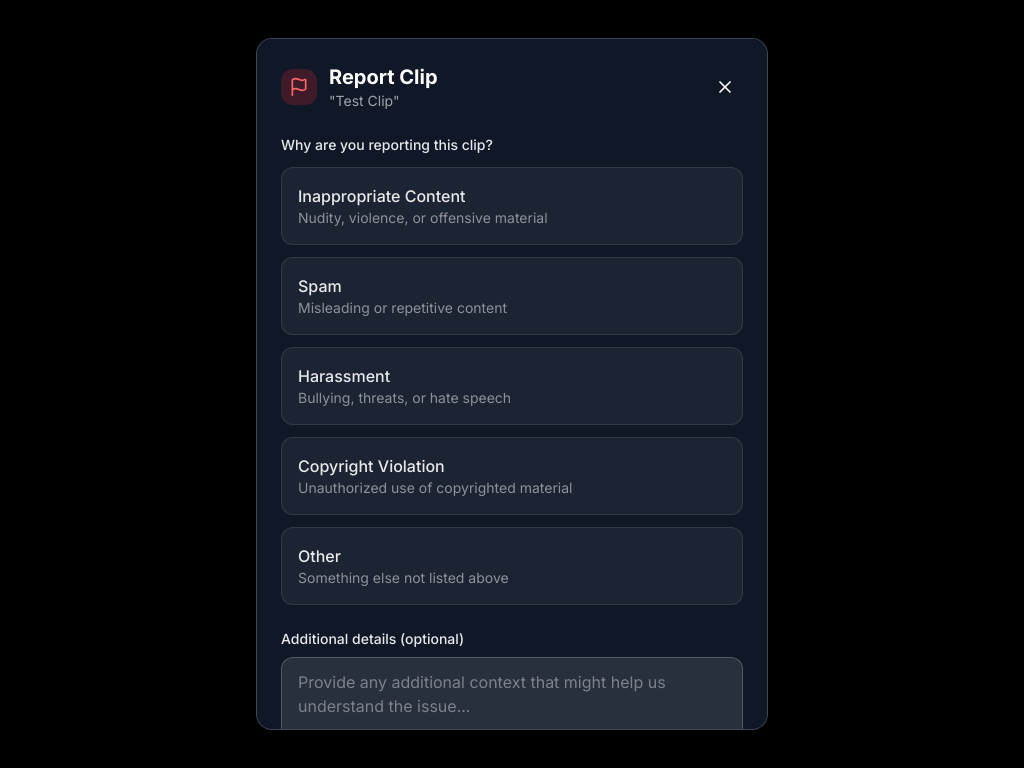
it: ReportModal › shows error message when submission fails
Step 1. Click the text "Harassment" → (344, 376), box [298,366,390,386]
(page scrolled)
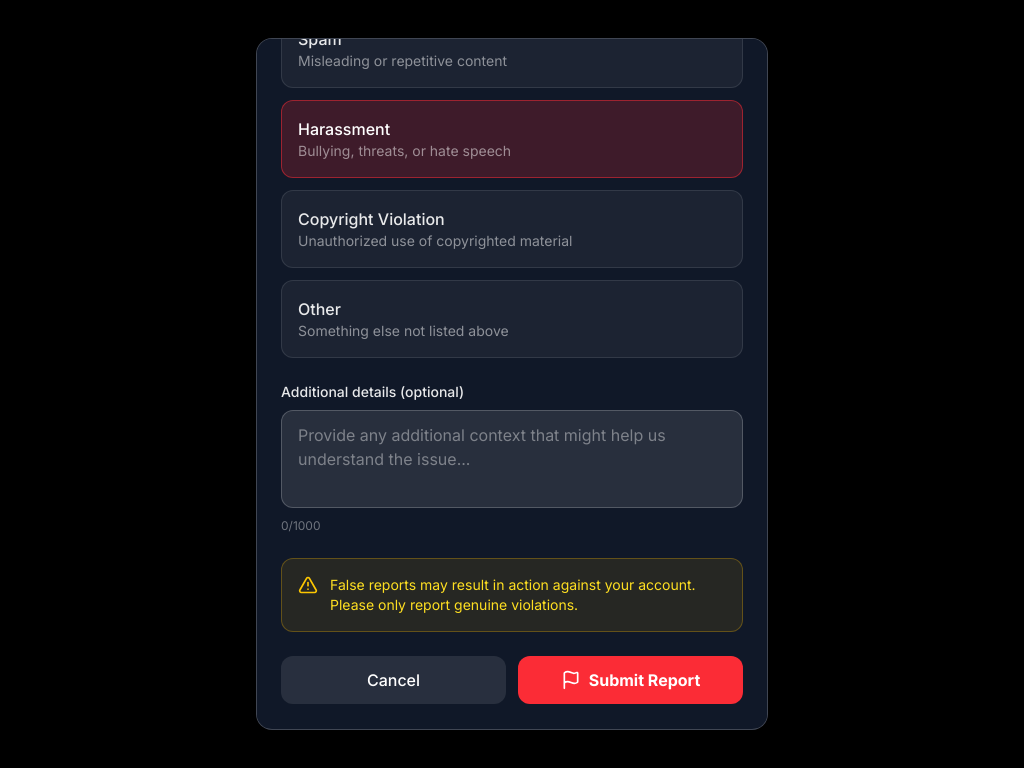
Step 2. Click the button "Submit Report" → (630, 680), box [518,656,743,704]
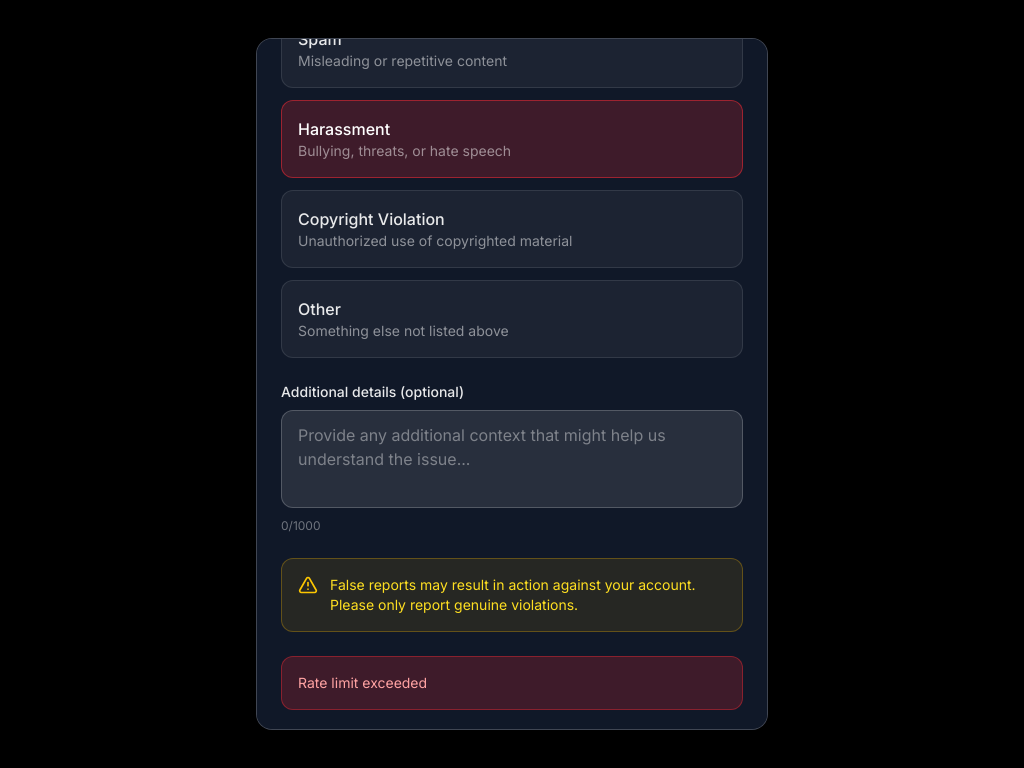
Now the text "Rate limit exceeded" is shown, box [298,674,427,691]
